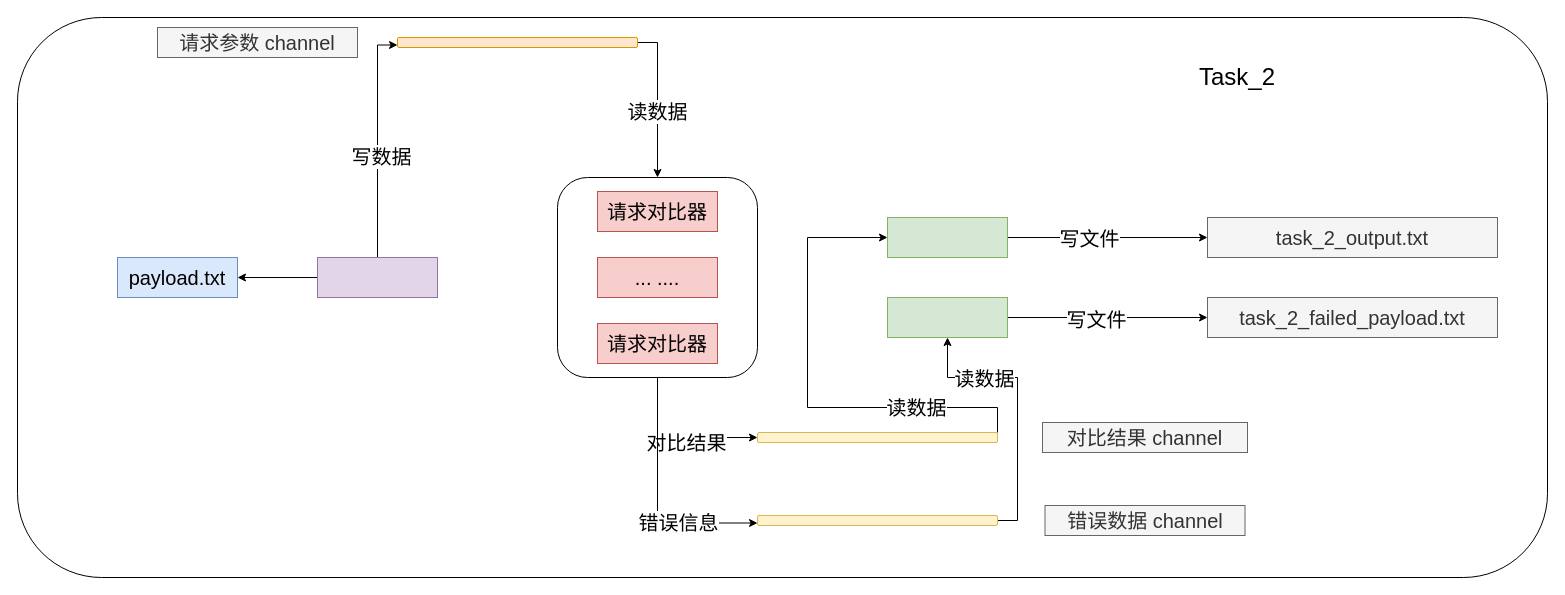
The diagram is 1565 pixels wide and 595 high, and some of its shapes have lost their labels. The centre of each missing label's shape, as x and y in pixels:
"数据读取器" belongs at [377,277].
"结果记录器" belongs at [947,237].
"错误记录器" belongs at [947,317].
